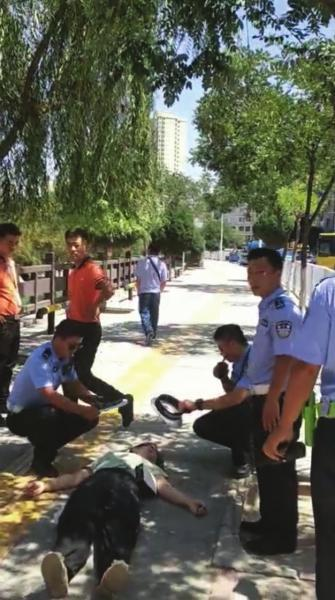Fall-Detected: (25, 422, 203, 598)
